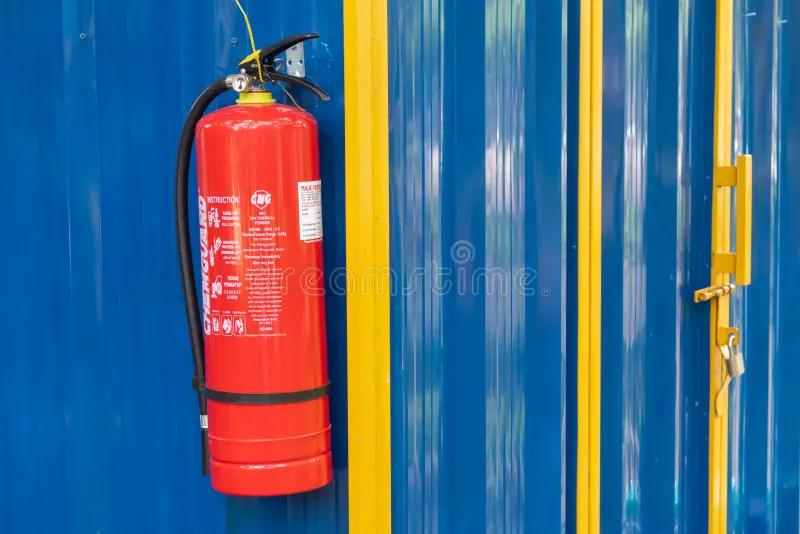wall-mounted: (133, 5, 399, 512)
